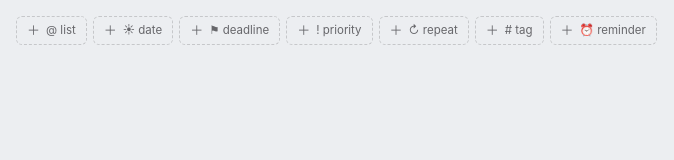
Test: filing a task with no lists yet › still lists the ones already made
The width and height of the screenshot is (674, 160).
Click the button "＋ @ list".
click(51, 30)  # box [16,16,87,45]
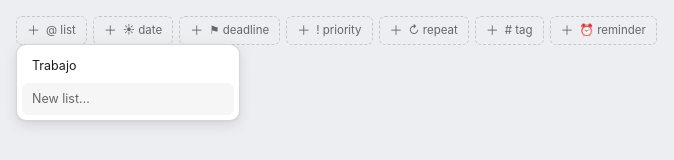
Expected: the button "Trabajo" is shown, [22,50,234,83]
Expected: the field labelled "New list…" is shown, [22,83,234,115]
